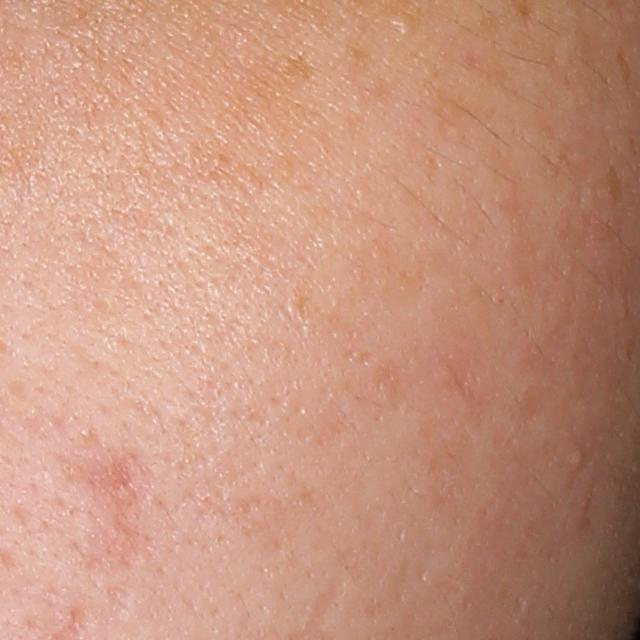atrophic_scar: (74, 448, 158, 576), (104, 584, 134, 630)
comedo: (389, 16, 415, 40), (569, 448, 585, 473)
melasma: (269, 51, 322, 87), (601, 165, 624, 206), (616, 49, 635, 88)
